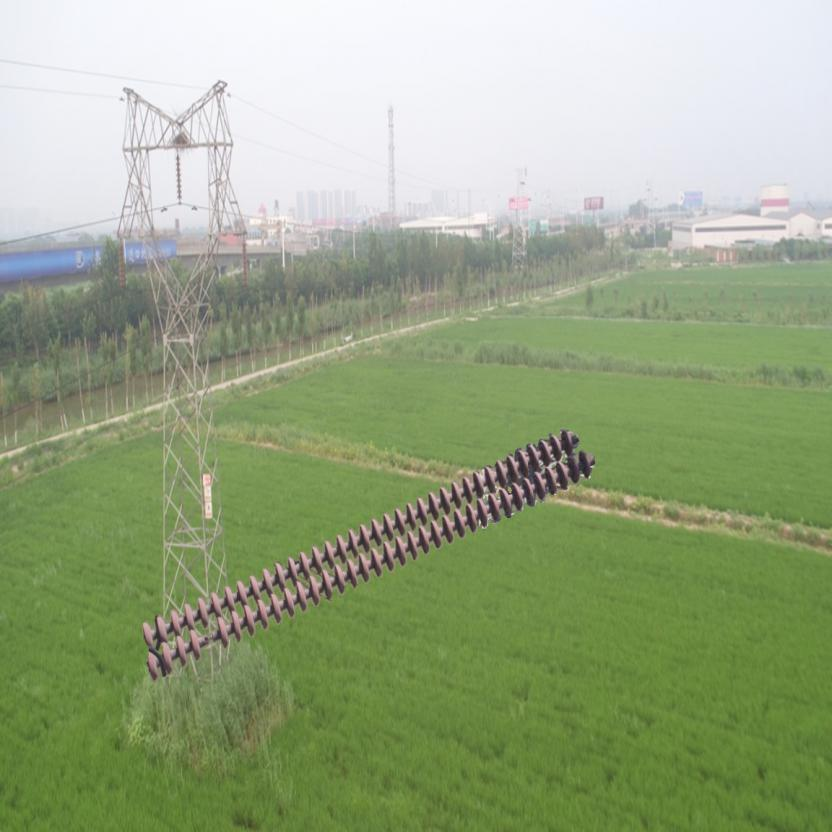defect: (184, 616, 233, 661)
